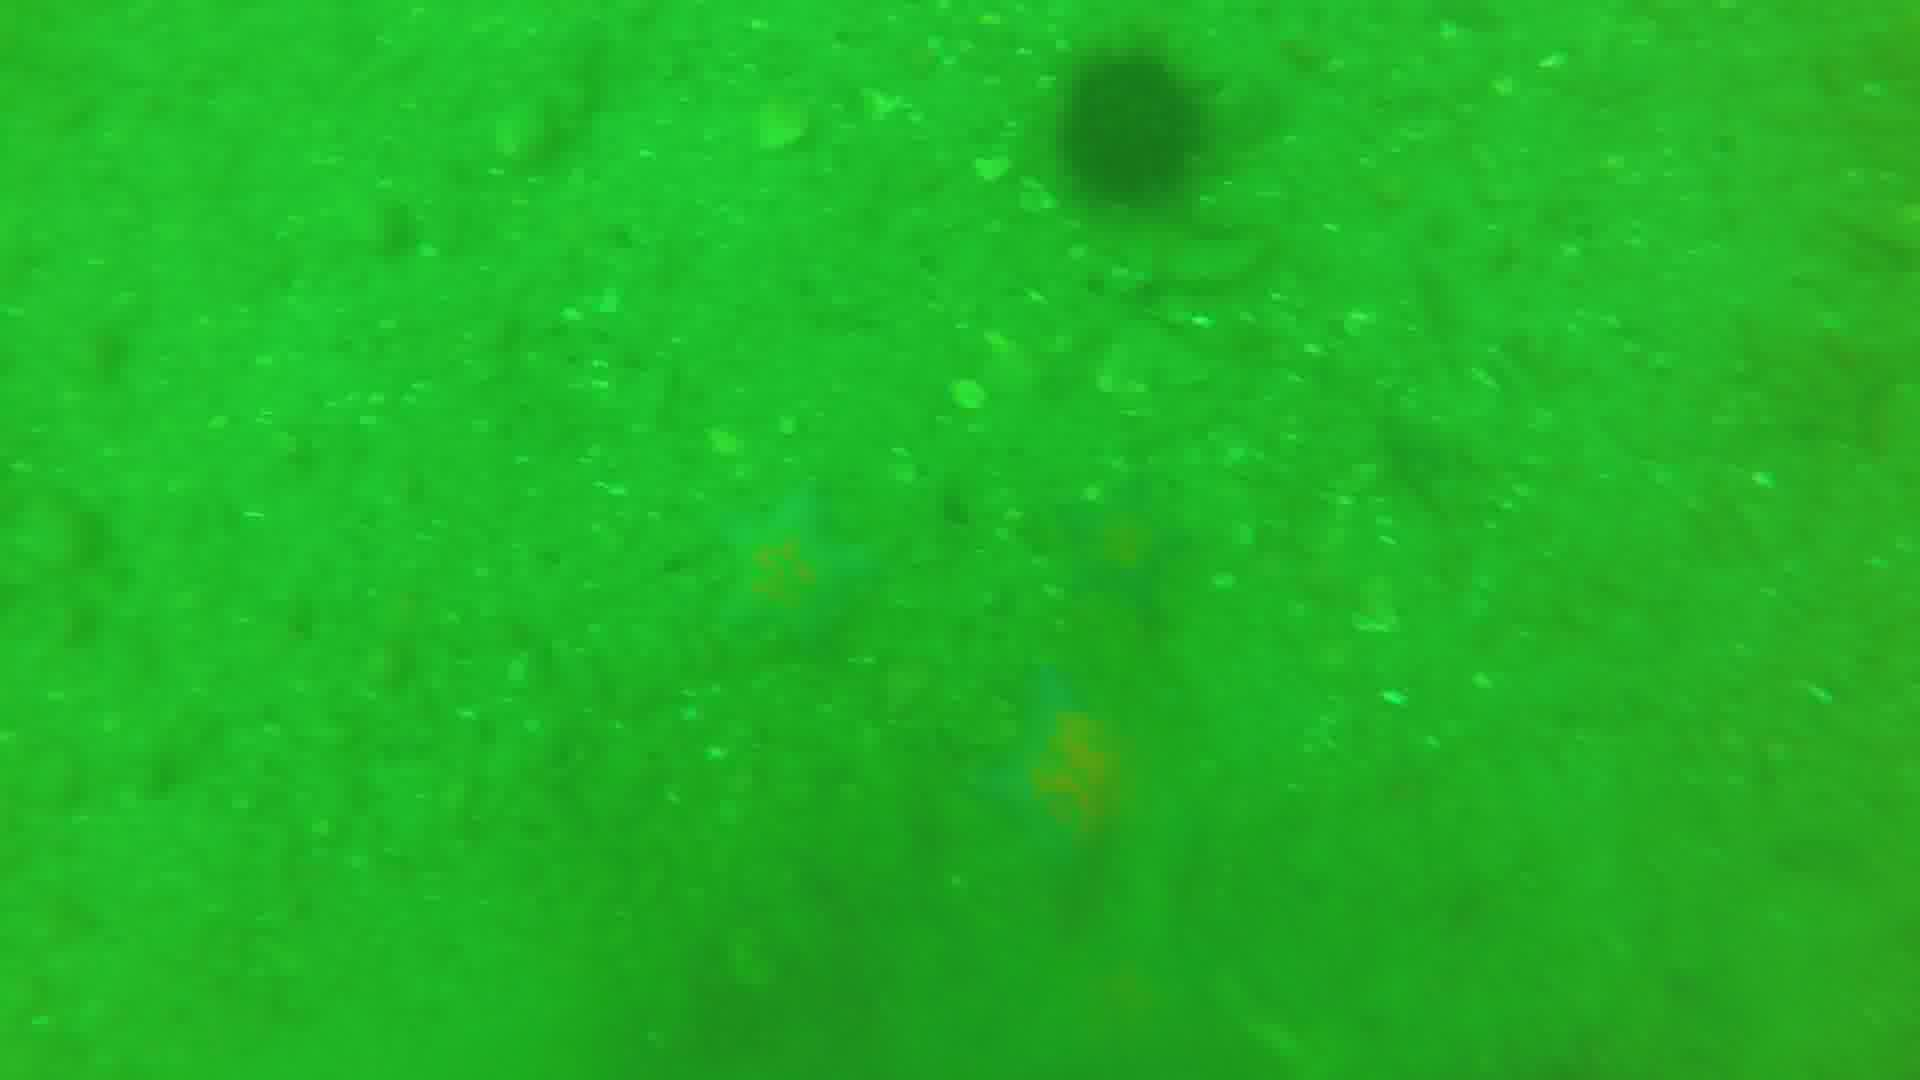echinus: (1044, 37, 1215, 208)
scallop: (749, 102, 818, 146), (955, 381, 993, 411)
starfish: (971, 670, 1145, 901), (725, 483, 876, 663), (1056, 475, 1203, 617)
